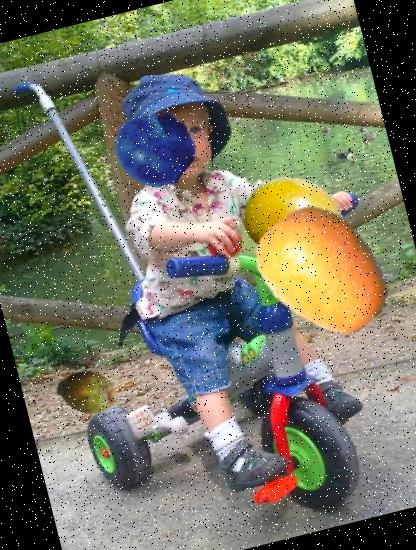Cactus: (50, 354, 124, 428)
Huckleberry: (107, 100, 203, 196)
Kumquats: (239, 186, 407, 354)
Maracuja: (230, 155, 354, 280)
